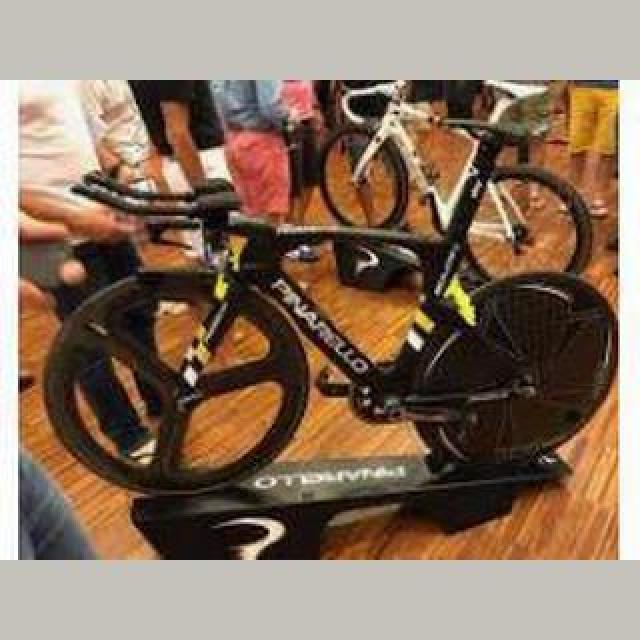Person: (44, 172, 620, 494), (316, 80, 596, 290)
